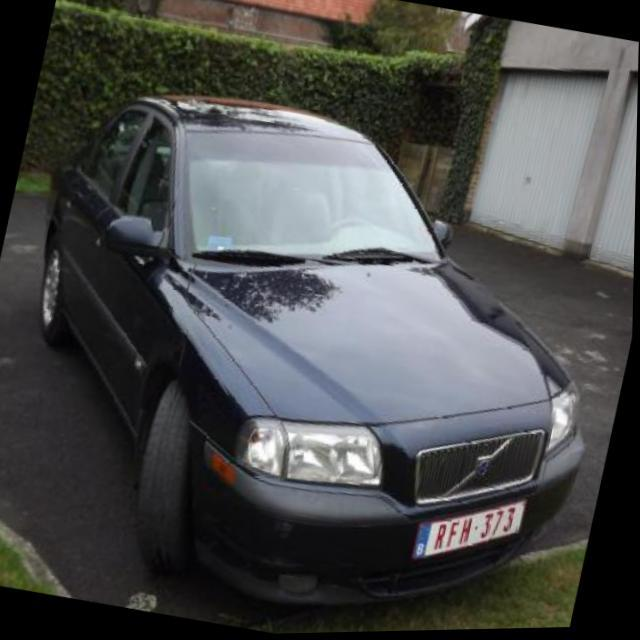license_plate: (414, 482, 531, 582)
